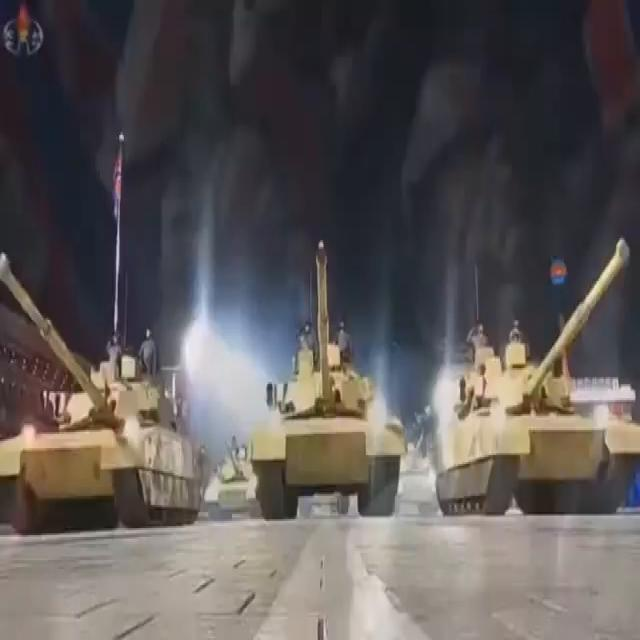north tank: (0, 229, 218, 559), (431, 216, 640, 549), (235, 221, 411, 561)
